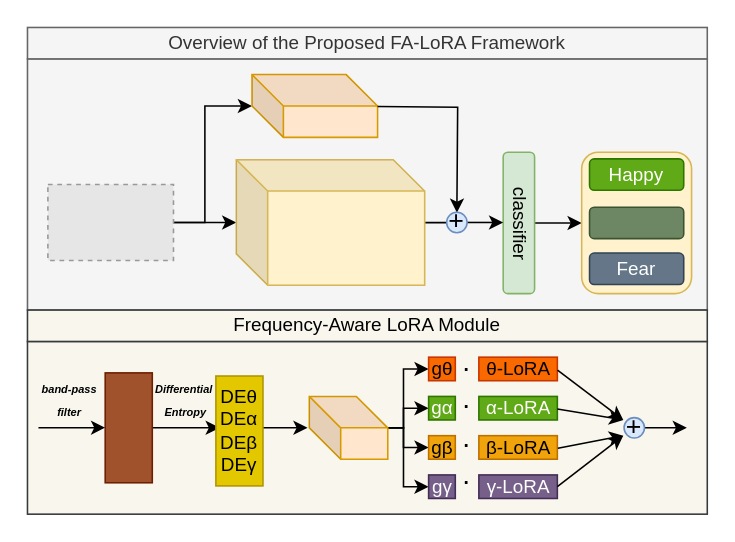
Some shapes in this 735 by 542 pixel diagram are drawn without their labels. Grey dashed boxes stand in for pictures. The shapes that lost their labels are listed below. From the top down, each one's centre as x and y in pixels, then its label:
point (314, 105): FA-LoRA
point (330, 221): LaBraM Backbone
point (636, 222): Sad
point (128, 427): Xθ Xα Xβ Xγ
point (348, 427): Gate
